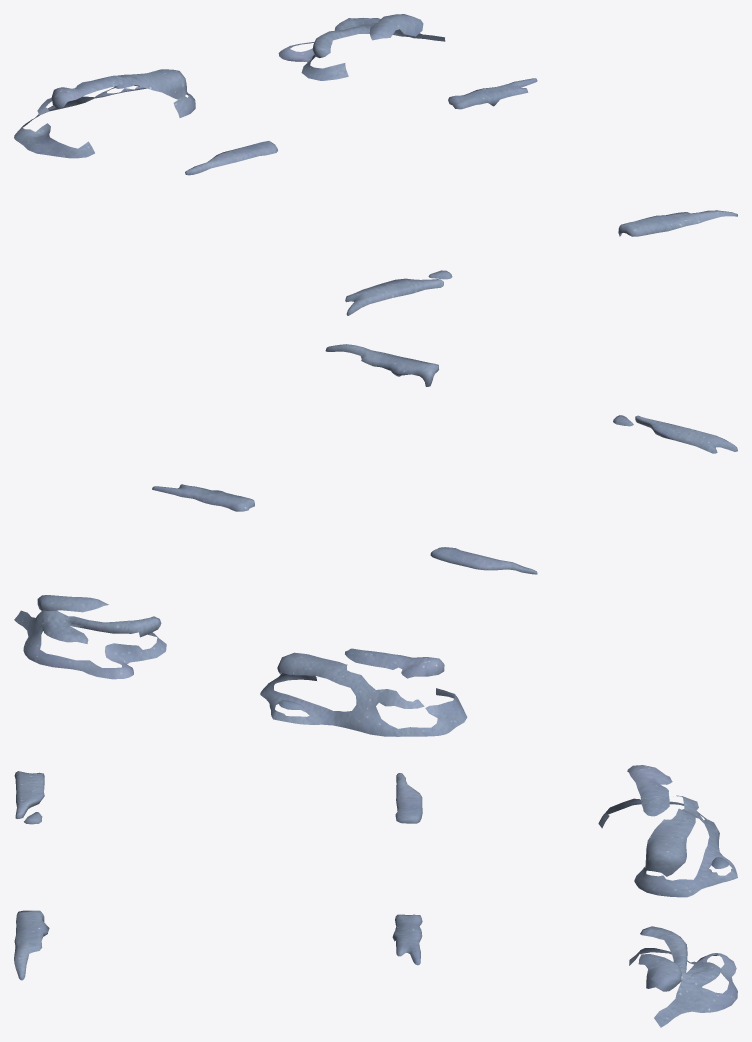
The model's file is pref_sm_beach_winter_snow11_lv1.fbx.
3 renders of one model, top to bottom at view 1: azimuth 30°, elevation 25°; view 2: azimuth 150°, elevation 25°; view 3: azimuth 270°, elevation 25°, orthographic. The views are drawn at different scales.
Parts seen in each view (by area): view 1: pref_sm_beach_winter_snow11_lv1; view 2: pref_sm_beach_winter_snow11_lv1; view 3: pref_sm_beach_winter_snow11_lv1.
Part boxes in pixels (left/top/right/bottom): pref_sm_beach_winter_snow11_lv1: left=14, top=14, right=737, bottom=315; pref_sm_beach_winter_snow11_lv1: left=14, top=344, right=737, bottom=736; pref_sm_beach_winter_snow11_lv1: left=14, top=765, right=737, bottom=1027.
Size of the model in its own units: 15.96 by 2.06 by 21.8.
